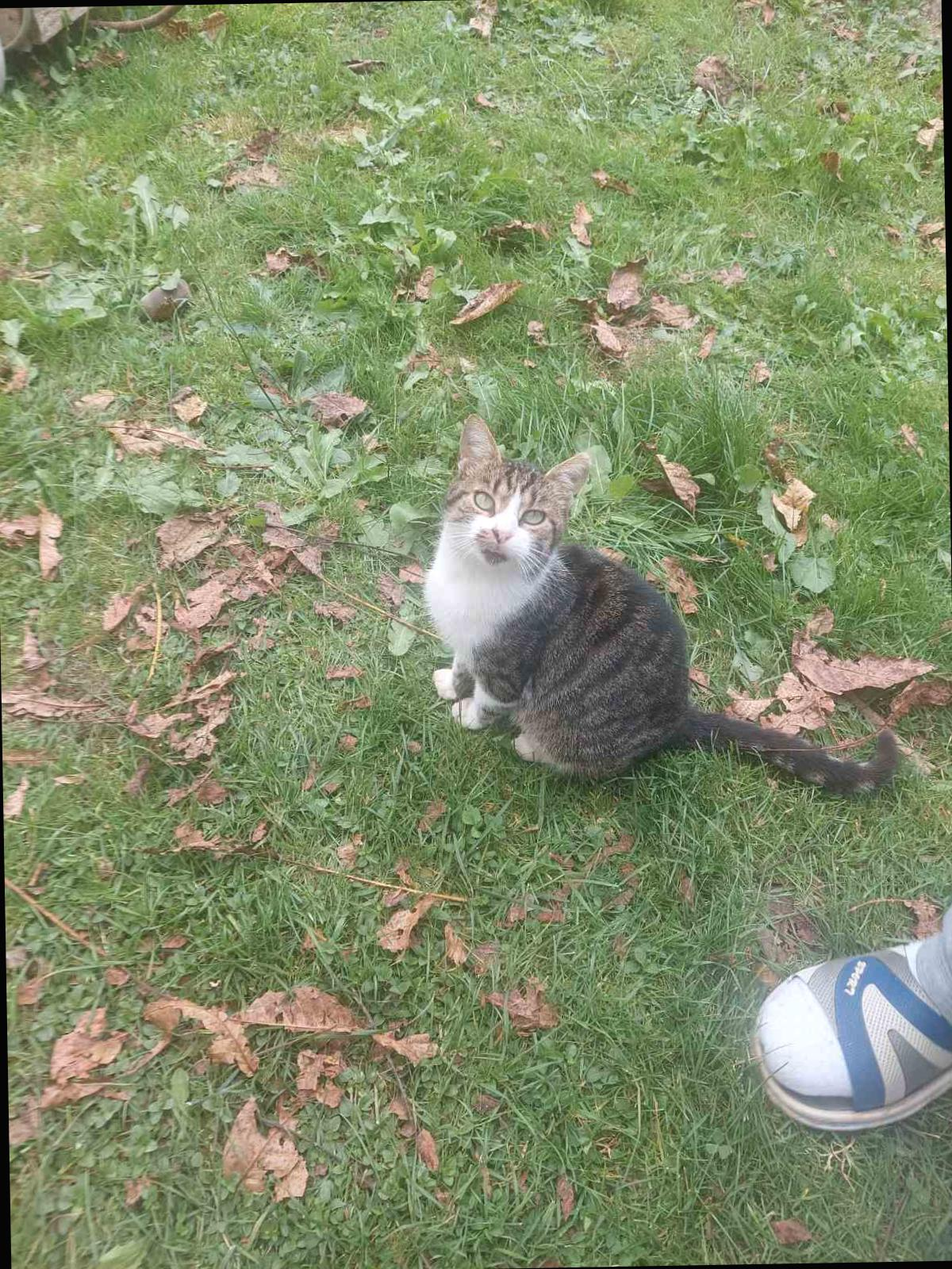macka: (422, 404, 899, 807)
